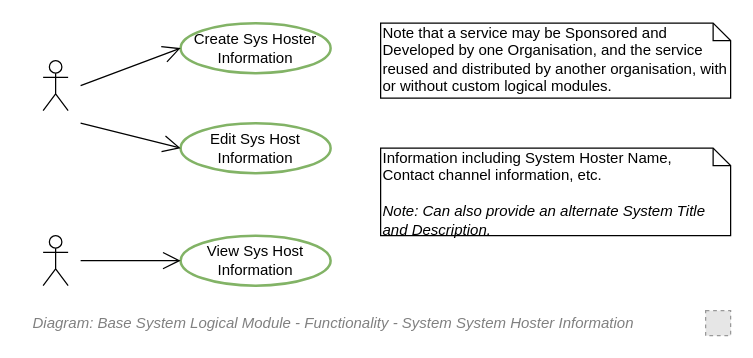
Some shapes in this 753 by 358 pixel diagram are drawn without their labels. Grey dashed boxes stand in for pictures. Each missing label, with the centre of its shape:
Developer: (x=55, y=85)
User: (x=55, y=260)
